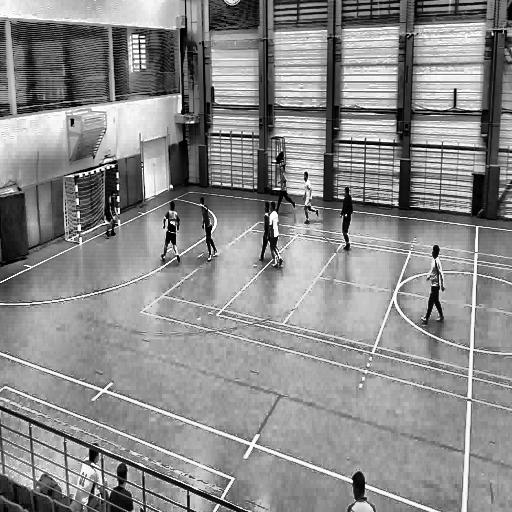ball: (167, 183, 175, 193)
player: (420, 242, 447, 328), (159, 200, 181, 266), (198, 195, 218, 264), (265, 201, 283, 273), (276, 163, 296, 216), (302, 171, 319, 226), (102, 189, 120, 240), (339, 186, 352, 254), (258, 200, 272, 262)
